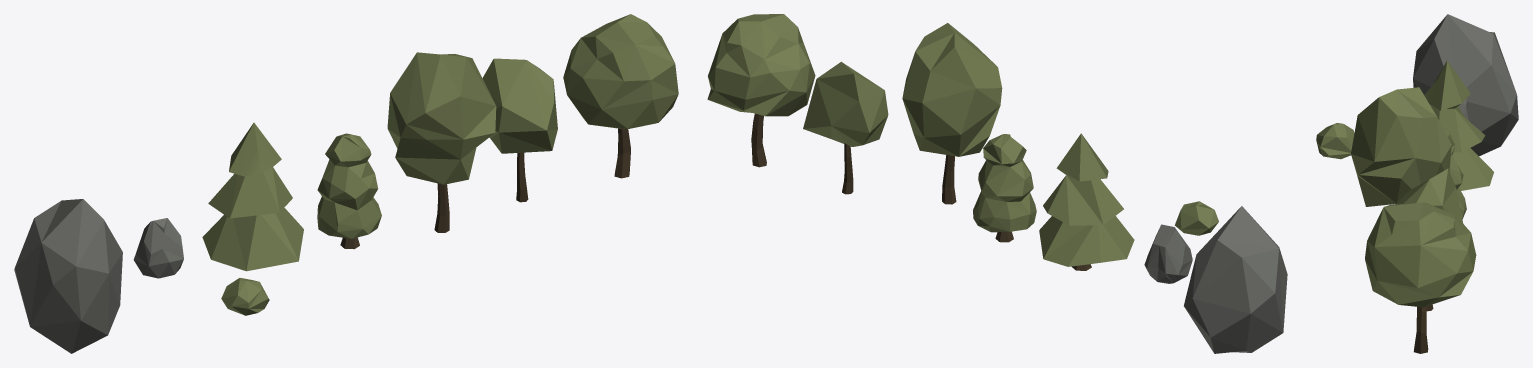
The model's file is Nature04.fbx.
3 renders of one model, left to right at view 1: azimuth 30°, elevation 25°; view 2: azimuth 150°, elevation 25°; view 3: azimuth 270°, elevation 25°, orthographic. The views are drawn at different scales.
Parts seen in each view (by area): view 1: pCube21, pCube19, pCube20, pCylinder12, pCylinder3, pCylinder11, polySurface16, polySurface13; view 2: pCube21, pCube19, pCube20, pCylinder12, pCylinder3, pCylinder11, polySurface16, polySurface13; view 3: pCube20, pCube19, pCube21, pCylinder12, pCylinder3, polySurface13, pCylinder11.
Part boxes in pixels (bbox=[...]): pCube21: bbox=[14, 199, 122, 353]; pCube19: bbox=[387, 52, 496, 232]; pCube20: bbox=[563, 14, 678, 178]; pCylinder12: bbox=[202, 122, 303, 271]; pCylinder3: bbox=[482, 58, 557, 202]; pCylinder11: bbox=[317, 133, 381, 249]; polySurface16: bbox=[133, 218, 183, 278]; polySurface13: bbox=[221, 278, 269, 315]; pCube21: bbox=[1184, 206, 1287, 353]; pCube19: bbox=[902, 23, 1002, 204]; pCube20: bbox=[707, 14, 815, 167]; pCylinder12: bbox=[1039, 133, 1134, 270]; pCylinder3: bbox=[803, 61, 888, 194]; pCylinder11: bbox=[973, 134, 1036, 242]; polySurface16: bbox=[1144, 224, 1192, 283]; polySurface13: bbox=[1174, 201, 1218, 235]; pCube20: bbox=[1365, 202, 1476, 353]; pCube19: bbox=[1351, 87, 1451, 206]; pCube21: bbox=[1413, 14, 1518, 156]; pCylinder12: bbox=[1424, 60, 1493, 190]; pCylinder3: bbox=[1396, 168, 1463, 311]; polySurface13: bbox=[1316, 123, 1354, 159]; pCylinder11: bbox=[1445, 131, 1466, 219].
Bounding box in the file's own units: 21.38 × 7.66 × 6.2.
